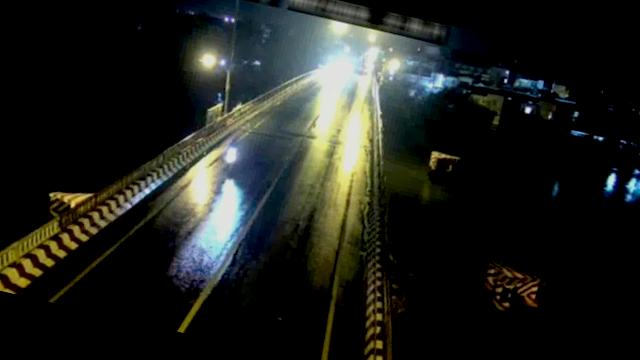Bike: (220, 140, 243, 177)
